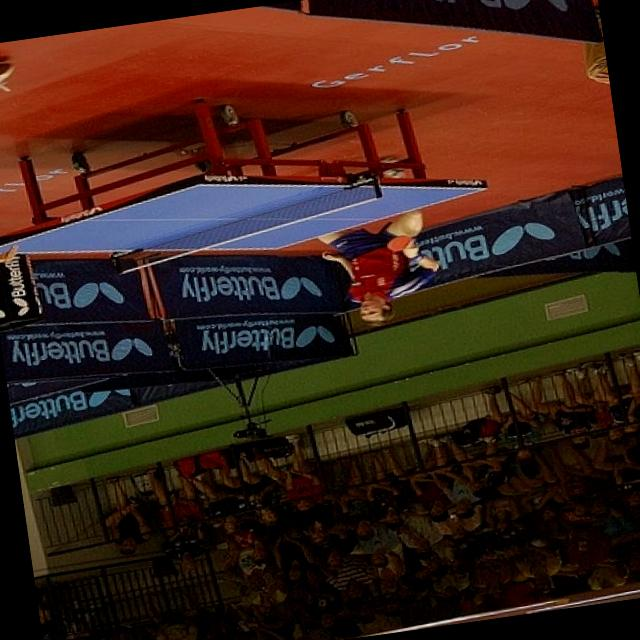TT Net: (109, 173, 384, 279)
TT Racket: (381, 227, 423, 255)
TT Table: (0, 181, 487, 250)
